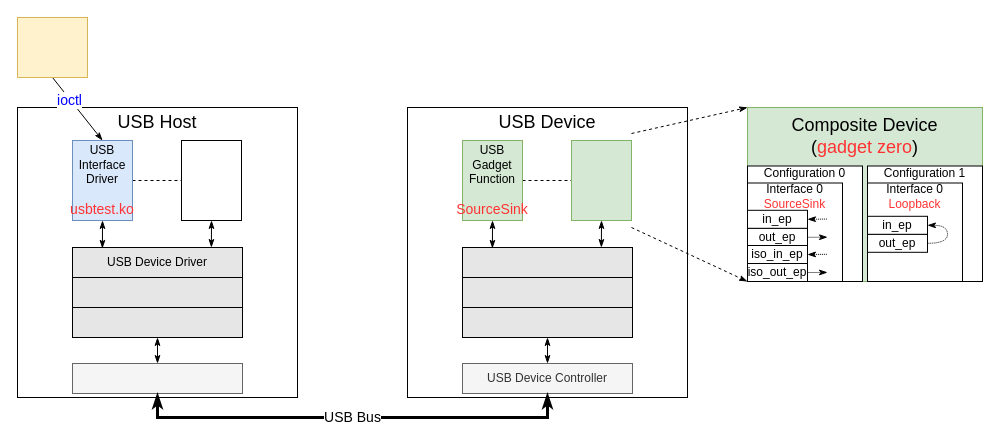
The diagram is 1000 pixels wide and 445 high, and some of its shapes have lost their labels. Each missing label, with the centre of its shape:
"Gadget API" goes at pixel 547 262.
"HCD Driver" goes at pixel 157 322.
"UDC Driver" goes at pixel 547 322.
"USB Core" goes at pixel 157 292.
"USB Gadget Driver" goes at pixel 547 292.
"USB Gadget Function Loopback" goes at pixel 601 180.
"USB Host Controller" goes at pixel 157 378.
"USB Interface Driver" goes at pixel 211 180.
"User Application testusb" goes at pixel 52 47.
